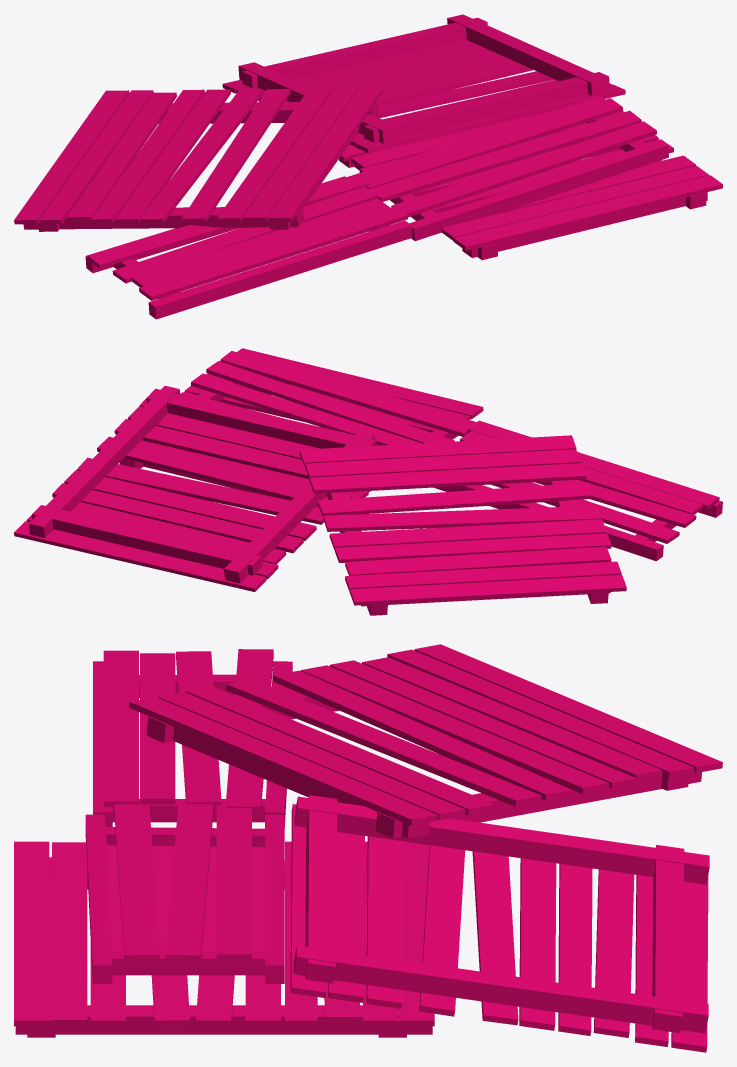
Rendered from Wood_Debris_Pile_01_Lod0.fbx.
The picture shows the model from 3 angles, top to bottom: view 1: azimuth 30°, elevation 25°; view 2: azimuth 150°, elevation 25°; view 3: azimuth 270°, elevation 25°; orthographic projection. The views are drawn at different scales.
Parts seen in each view (by area): view 1: Wood_Debris_Pile_01_Lod0; view 2: Wood_Debris_Pile_01_Lod0; view 3: Wood_Debris_Pile_01_Lod0.
Boxes of the visible parts, x1,y1,x2,y2 form: Wood_Debris_Pile_01_Lod0: (14,14,722,319); Wood_Debris_Pile_01_Lod0: (14,348,722,615); Wood_Debris_Pile_01_Lod0: (14,644,722,1052).
Bounding box in the file's own units: 652 × 76.44 × 502.
